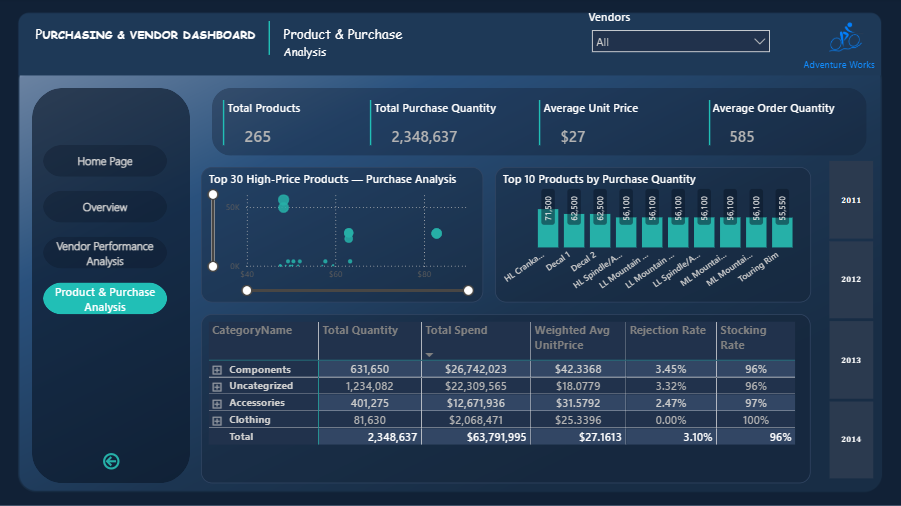

The page's visual inventory and layout, read from the dashboard file:
{"tool":"powerbi","page":{"name":"Product & Purchase Analysis","canvas":[1280,720],"ordinal":3},"visuals":[{"type":"shape","box":[48,128,224,560],"z":0},{"type":"shape","box":[304,128,928,96],"z":1000},{"type":"group","id":"g1","title":"Group 2","box":[1136,32,112,80],"z":2000},{"type":"cardVisual","title":"Total Products","fields":{"Data":["MeasureGroup.Total Products"]},"box":[320,144,160,80],"z":3000},{"type":"textbox","box":[48,32,336,48],"z":4000},{"type":"cardVisual","title":"Average Order Quantity","fields":{"Data":["MeasureGroup.Average OrderQuantity"]},"box":[1008,144,208,80],"z":5000},{"type":"shape","box":[368,32,32,48],"z":6000},{"type":"image","box":[1168,32,64,48],"z":7000,"group":"g1"},{"type":"cardVisual","title":"Total Purchase Quantity","fields":{"Data":["MeasureGroup.Total Quantity"]},"box":[528,144,208,80],"z":7000},{"type":"textbox","box":[400,32,192,64],"z":8000},{"type":"textbox","box":[1136,80,112,32],"z":8000,"group":"g1"},{"type":"cardVisual","title":"Average Unit Price","fields":{"Data":["MeasureGroup.Weighted Avg UnitPrice"]},"box":[768,144,224,80],"z":9000},{"type":"shape","box":[496,144,64,64],"z":10000},{"type":"shape","box":[736,144,64,64],"z":11000},{"type":"shape","box":[976,144,64,64],"z":12000},{"type":"shape","box":[288,144,64,64],"z":13000},{"type":"scatterChart","title":"Top 30 High-Price Products — Purchase Analysis","fields":{"Size":["MeasureGroup.Total Spend"],"Y":["MeasureGroup.Total Quantity"],"Category":["Purchasing vw_Dim_Product.ProductName"],"X":["MeasureGroup.Weighted Avg UnitPrice"]},"box":[288,240,400,192],"z":14000},{"type":"slicer","title":"Vendors","fields":{"Values":["Purchasing vw_Dim_Vendor.VendorName"]},"box":[832,16,272,80],"z":15000},{"type":"pivotTable","fields":{"Rows":["Purchasing vw_Dim_Product.CategoryName","Purchasing vw_Dim_Product.SubcategoryName","Purchasing vw_Dim_Product.ProductName"],"Values":["MeasureGroup.Total Quantity","MeasureGroup.Total Spend","MeasureGroup.Weighted Avg UnitPrice","MeasureGroup.Rejection Rate","MeasureGroup.Stocking Rate"]},"box":[288,448,864,240],"z":16000},{"type":"columnChart","title":"Top 10 Products by Purchase Quantity","fields":{"Y":["MeasureGroup.Total Quantity"],"Category":["Purchasing vw_Dim_Product.ProductName"]},"box":[704,240,448,192],"z":17000},{"type":"slicer","fields":{"Values":["Purchasing vw_Dim_Date.Year"]},"box":[1152,224,112,464],"z":18000},{"type":"pageNavigator","box":[64,208,176,240],"z":19000},{"type":"actionButton","box":[144,640,32,32],"z":20000}]}

Visuals, with their boxes in screenshot pixels (x1, y1, x2, y2), scaled from the page's 1280x720 canvas onto the 901x506 screenshot:
shape: region(34, 90, 191, 484)
shape: region(214, 90, 867, 157)
"Group 2" group: region(800, 22, 878, 79)
"Total Products" cardVisual: region(225, 101, 338, 157)
textbox: region(34, 22, 270, 56)
"Average Order Quantity" cardVisual: region(710, 101, 856, 157)
shape: region(259, 22, 282, 56)
image: region(822, 22, 867, 56)
"Total Purchase Quantity" cardVisual: region(372, 101, 518, 157)
textbox: region(282, 22, 417, 67)
textbox: region(800, 56, 878, 79)
"Average Unit Price" cardVisual: region(541, 101, 698, 157)
shape: region(349, 101, 394, 146)
shape: region(518, 101, 563, 146)
shape: region(687, 101, 732, 146)
shape: region(203, 101, 248, 146)
"Top 30 High-Price Products — Purchase Analysis" scatterChart: region(203, 169, 484, 304)
"Vendors" slicer: region(586, 11, 777, 67)
pivotTable - Purchasing vw_Dim_Product.CategoryName x Purchasing vw_Dim_Product.SubcategoryName: region(203, 315, 811, 484)
"Top 10 Products by Purchase Quantity" columnChart: region(496, 169, 811, 304)
slicer - Purchasing vw_Dim_Date.Year: region(811, 157, 890, 484)
pageNavigator: region(45, 146, 169, 315)
actionButton: region(101, 450, 124, 472)
